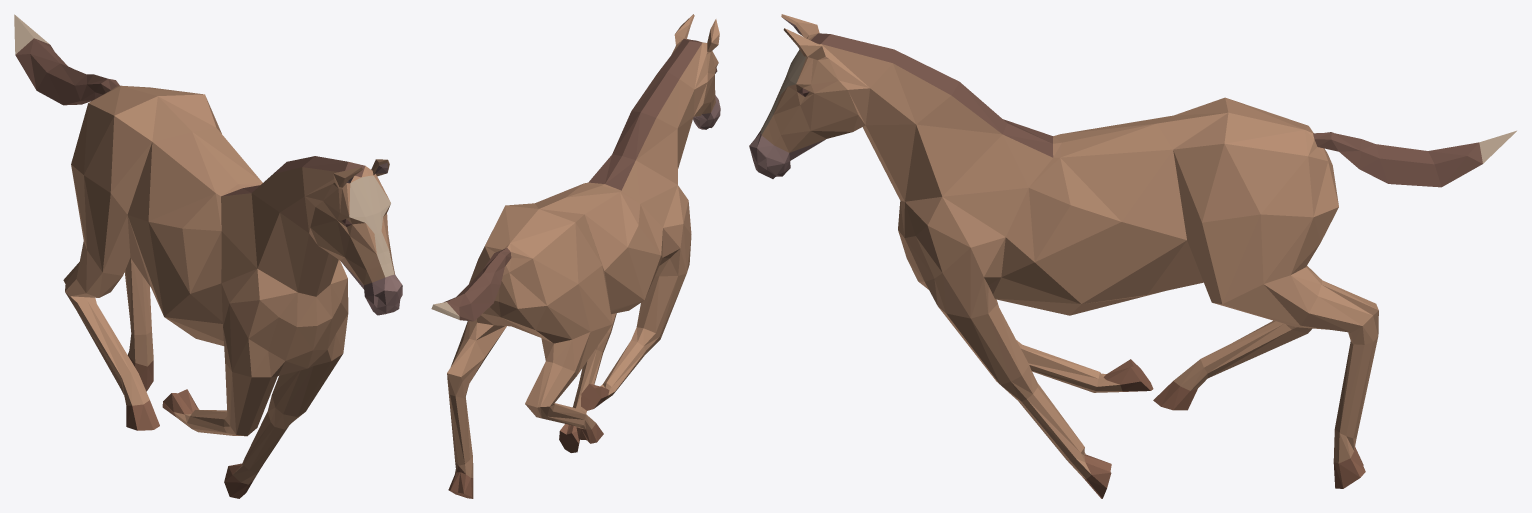
Rendered from Horse.glb.
3 renders of one model, left to right at view 1: azimuth 30°, elevation 25°; view 2: azimuth 150°, elevation 25°; view 3: azimuth 270°, elevation 25°, orthographic. The views are drawn at different scales.
Visible parts, largest first — view 1: mesh_0; view 2: mesh_0; view 3: mesh_0.
Part boxes in pixels (<box>): mesh_0: <box>14,14,402,498</box>; mesh_0: <box>431,14,720,498</box>; mesh_0: <box>749,14,1516,498</box>.
Size of the model in its own units: 66.19 by 190 by 283.
